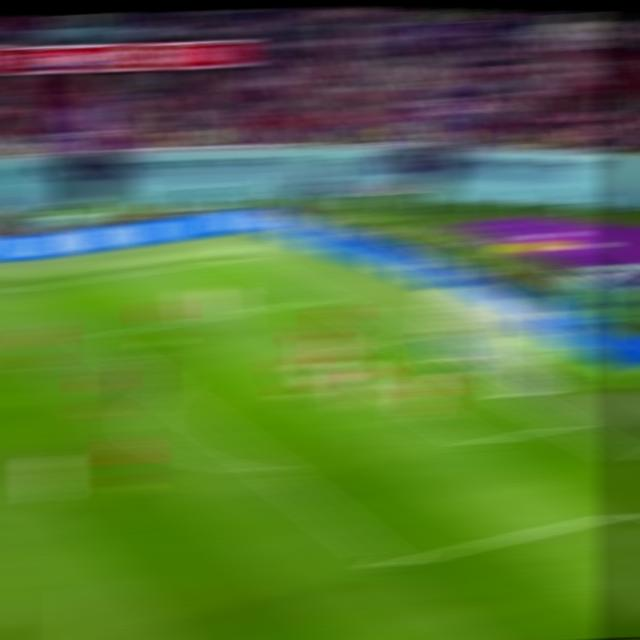bigarea_bottom_inner: (370, 549, 415, 579)
bigarea_top_inner: (74, 325, 111, 346)
bigarea_top_outter: (303, 290, 340, 307)
bottom_arc_area_intersection: (252, 458, 291, 480)
corner: (222, 251, 259, 265)
smallarea_bottom_inner: (456, 427, 499, 457)
smallarea_bottom_outter: (545, 414, 584, 436)
smallarea_top_outter: (379, 328, 416, 347)
top_arc_area_intersection: (148, 379, 185, 400)
